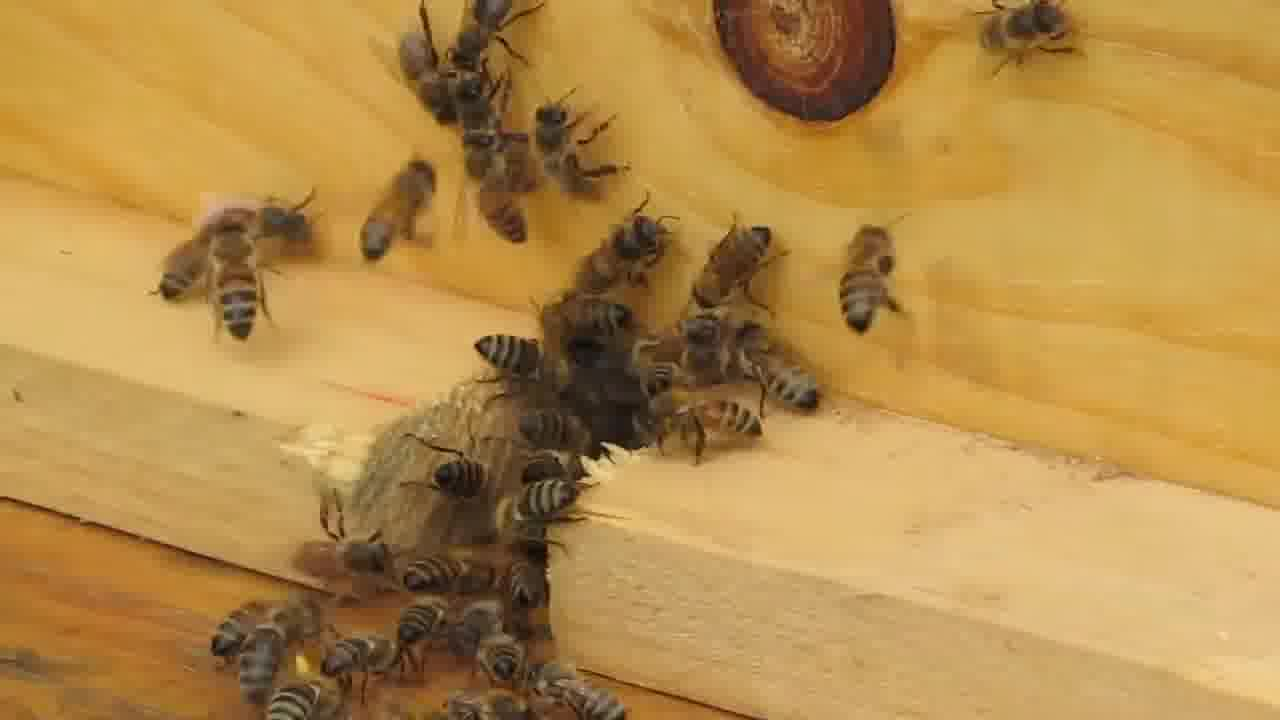pollen: (242, 592, 325, 704)
